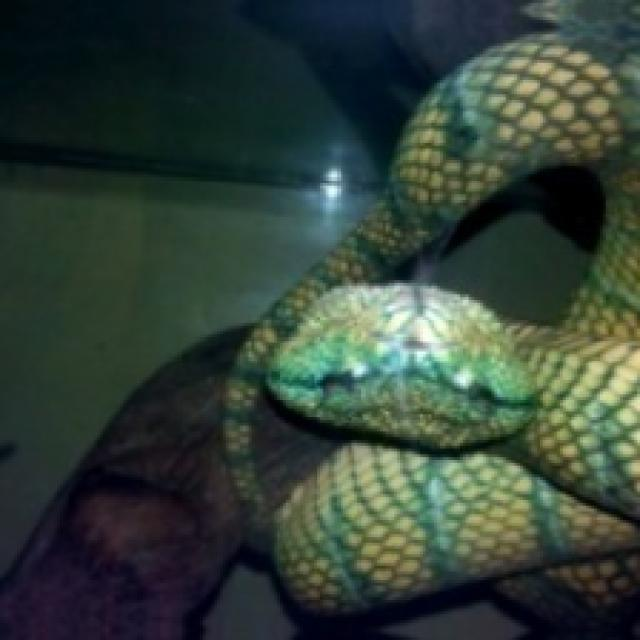north ph temple pitviper: (223, 0, 637, 637)
